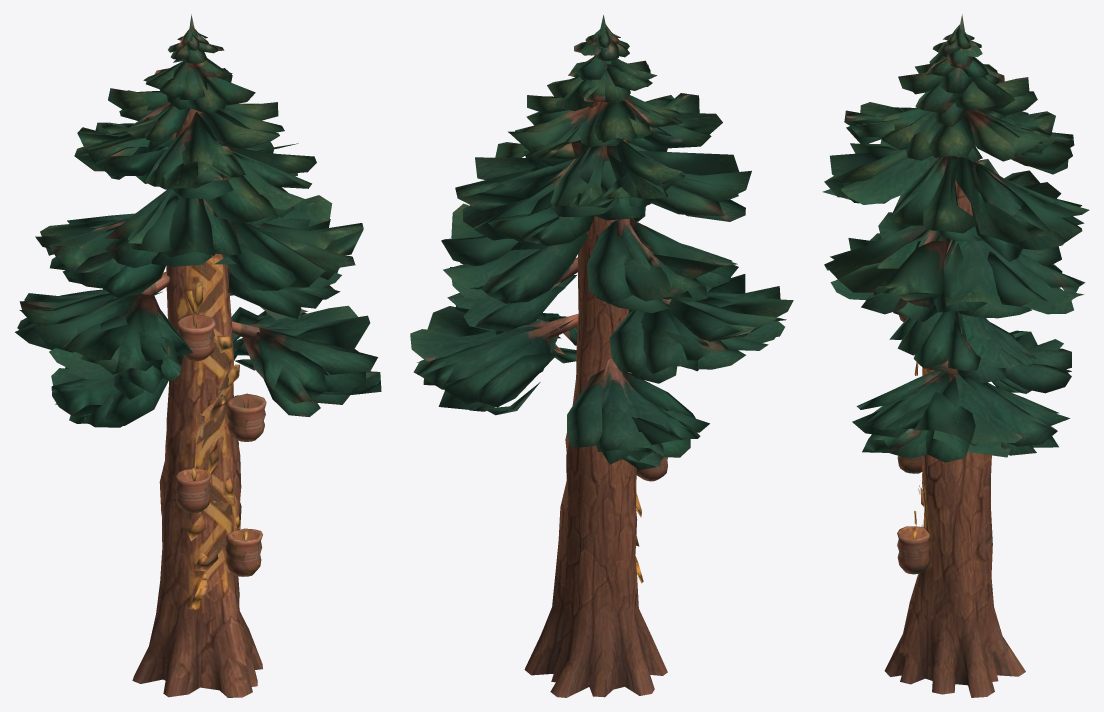
File: resin_pine.glb
3 views of the same model, side by side, from view 1: azimuth 30°, elevation 25°; view 2: azimuth 150°, elevation 25°; view 3: azimuth 270°, elevation 25° (orthographic).
Visible parts, largest first — view 1: kit-resin-tapped-pine-1; view 2: kit-resin-tapped-pine-1; view 3: kit-resin-tapped-pine-1.
Boxes of the visible parts, x1,y1,x2,y2 form: kit-resin-tapped-pine-1: [15, 14, 381, 697]; kit-resin-tapped-pine-1: [410, 15, 793, 697]; kit-resin-tapped-pine-1: [822, 14, 1089, 697].
Size of the model in its own units: 3.25 by 6 by 2.24.
1 material, 1 textured.
